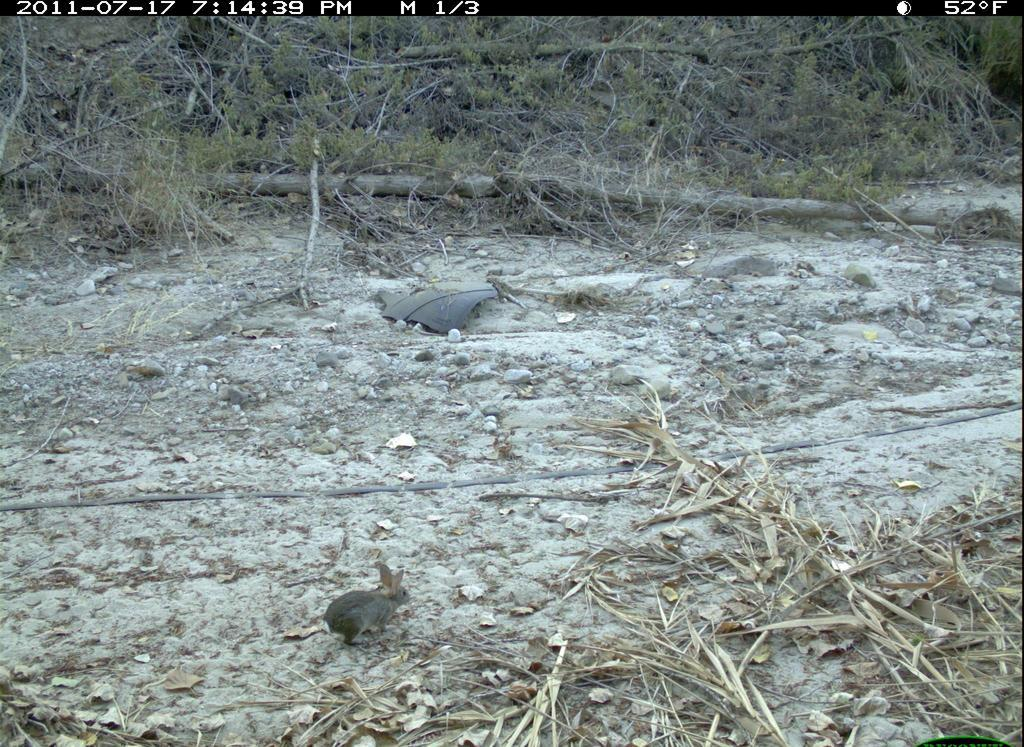rabbit: (318, 559, 424, 648)
